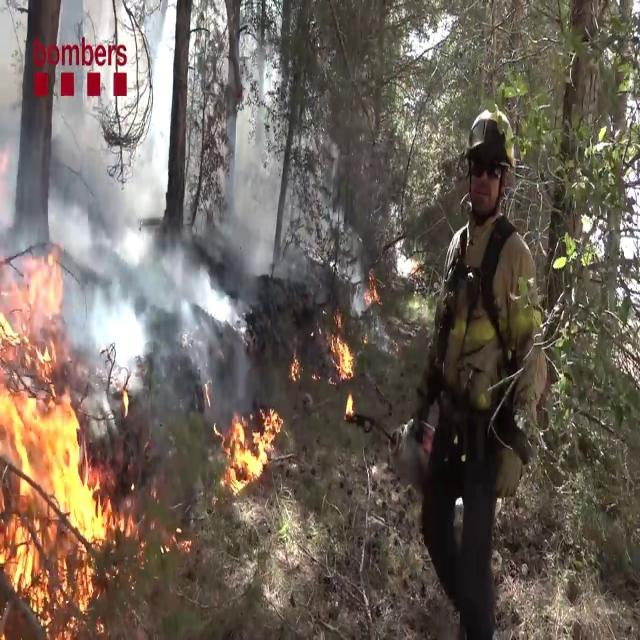Fire: (0, 244, 120, 623), (214, 398, 288, 494), (327, 314, 357, 402)
Smoke: (42, 116, 234, 368)
